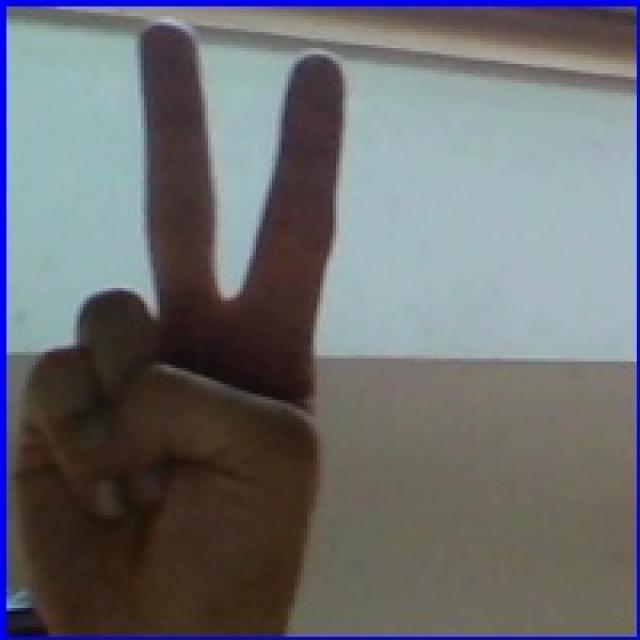V: (6, 17, 367, 636)
